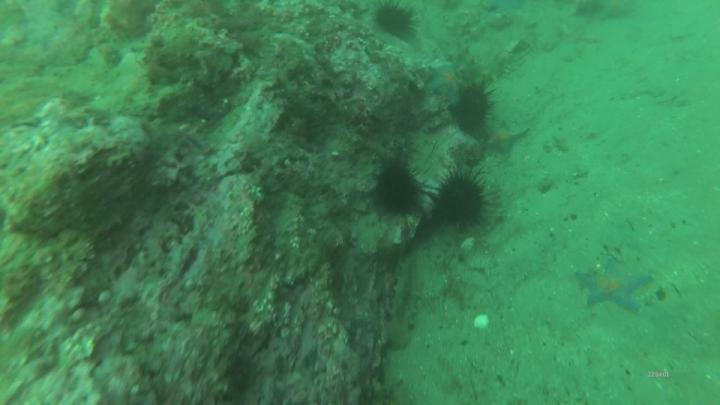echinus: (440, 175, 486, 223), (455, 84, 493, 132), (381, 171, 424, 211), (378, 6, 415, 34)
holothurian: (391, 261, 420, 349)
starfish: (580, 261, 646, 311), (487, 122, 515, 155)
